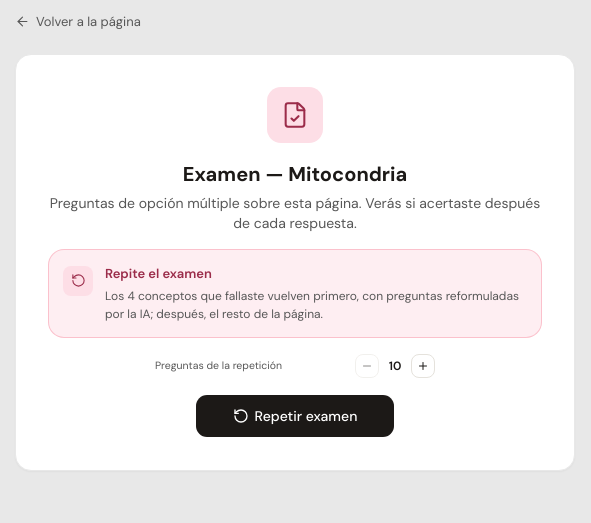
ExamStart › refreshes into the add-questions state when the retake is refused for lack of questions
The width and height of the screenshot is (591, 523).
Click the button with test id "retake-exam-button" at (295, 416), box [195, 394, 395, 438]
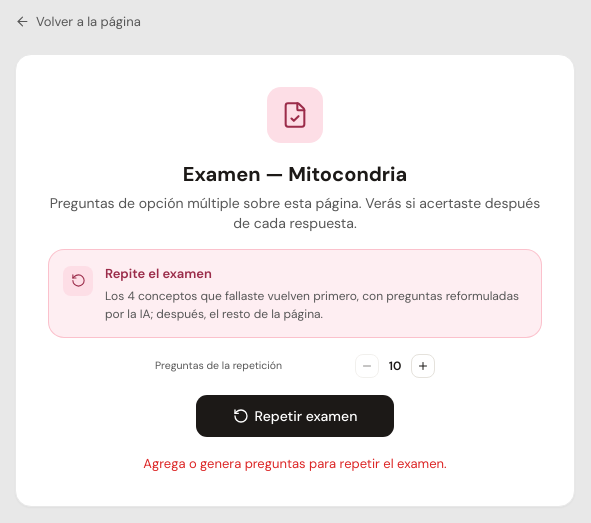
Now the message shows "Agrega o genera preguntas para repetir el examen", box [143, 455, 447, 472]
